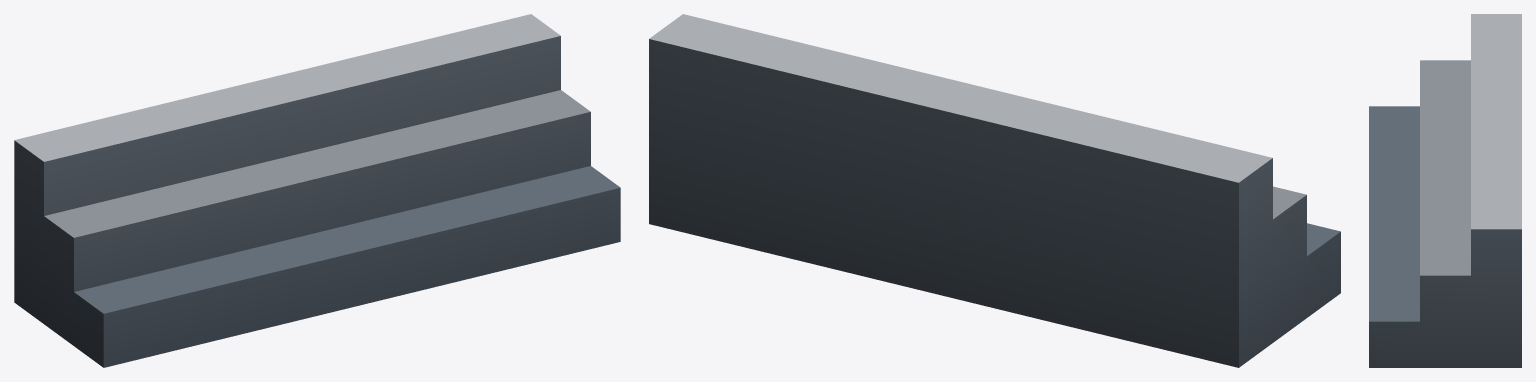
The model's file is stairs-small-center.glb.
3 views of the same model, side by side, from view 1: azimuth 30°, elevation 25°; view 2: azimuth 150°, elevation 25°; view 3: azimuth 270°, elevation 25° (orthographic). The views are drawn at different scales.
Visible parts, largest first — view 1: stairs-small-center; view 2: stairs-small-center; view 3: stairs-small-center.
Part boxes in pixels (x1,y1,x2,y2): stairs-small-center: [14, 14, 620, 367]; stairs-small-center: [649, 14, 1340, 367]; stairs-small-center: [1369, 14, 1521, 367].
Bounding box in the file's own units: 1 × 0.3 × 0.3.
